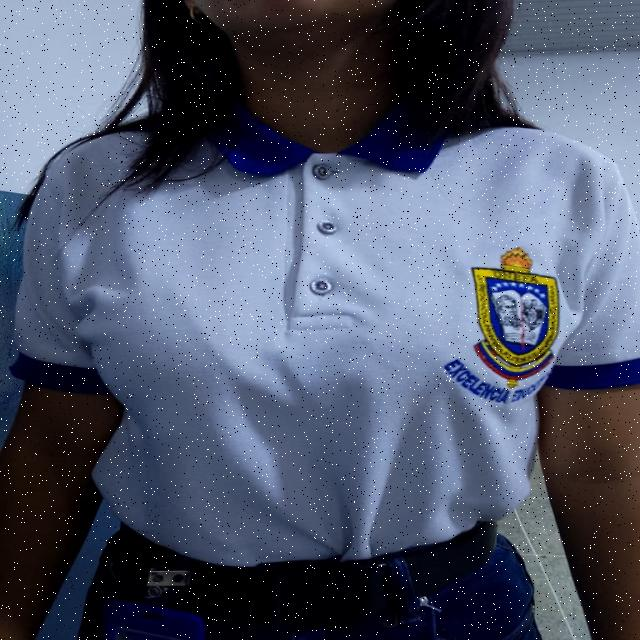uniforme_superior: (10, 114, 639, 568)
